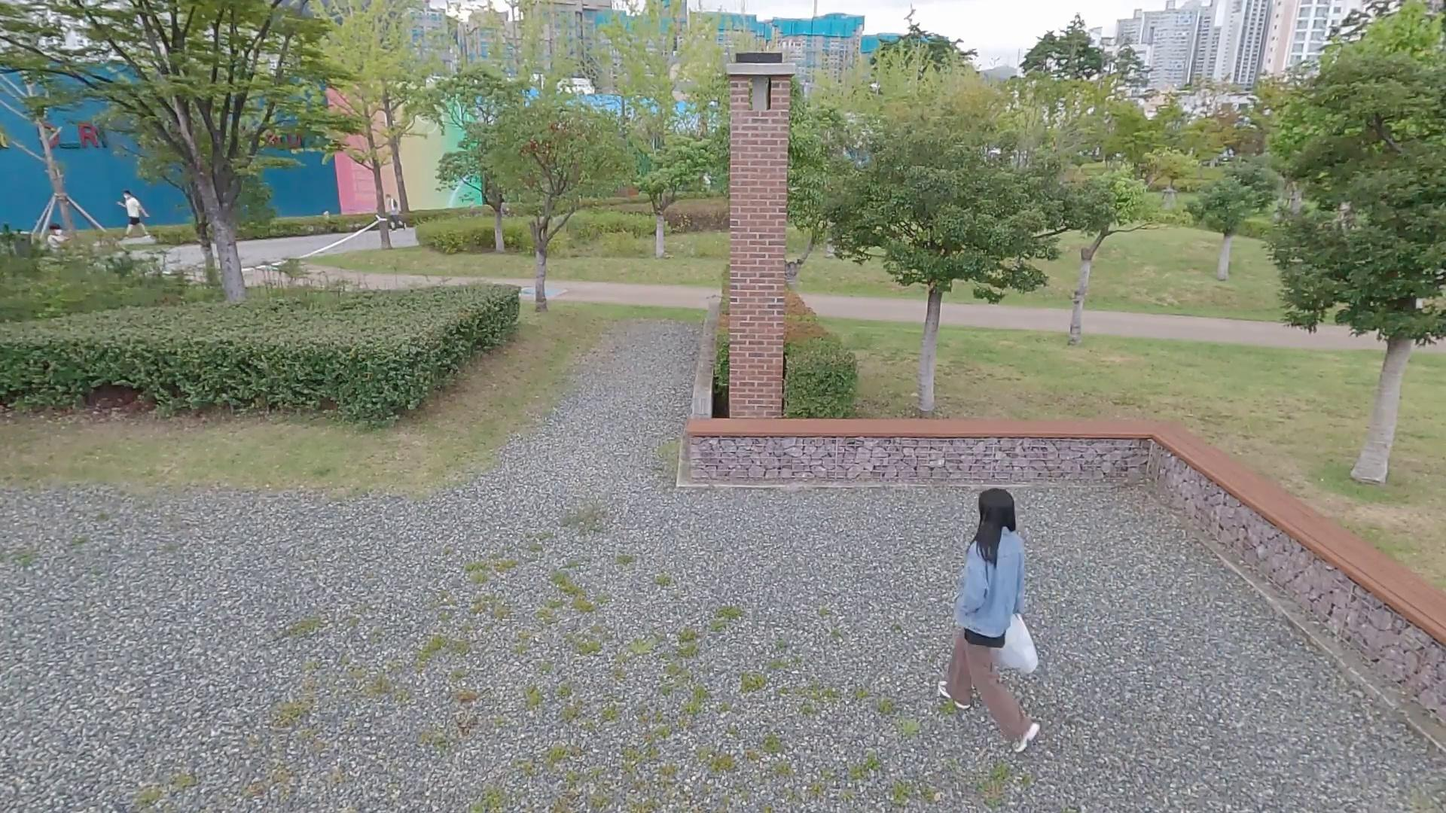person: (938, 486, 1045, 755), (116, 186, 150, 238), (383, 192, 408, 233)
trash: (990, 615, 1044, 681)
